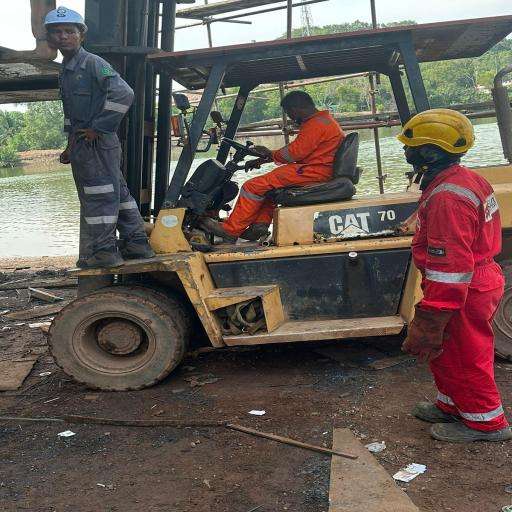safety_shoe: (430, 416, 508, 446), (118, 238, 160, 261), (204, 217, 240, 243), (76, 249, 128, 267), (411, 398, 450, 421), (240, 220, 274, 240)
